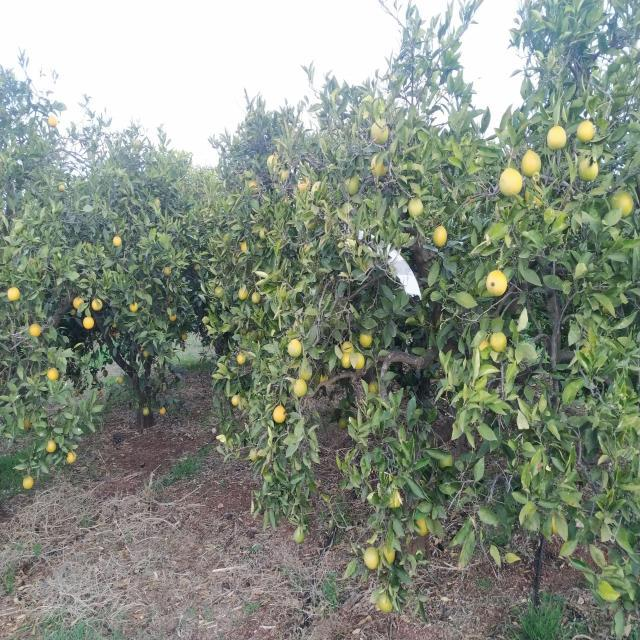Jeruk Belum Matang: (612, 190, 634, 218), (520, 150, 542, 176), (578, 156, 598, 182), (370, 122, 390, 144), (376, 590, 394, 614), (490, 332, 508, 352), (364, 546, 378, 570), (345, 174, 359, 197), (408, 198, 423, 218), (382, 546, 396, 565), (414, 518, 428, 537), (312, 181, 327, 198), (438, 456, 455, 470), (360, 330, 372, 348), (353, 352, 365, 370), (300, 366, 312, 380), (341, 352, 352, 367), (249, 448, 260, 462), (304, 220, 318, 230), (294, 530, 304, 544), (368, 380, 379, 392), (238, 288, 248, 301), (46, 440, 56, 452), (66, 451, 76, 463), (214, 286, 224, 298), (251, 291, 261, 303), (266, 156, 276, 168), (259, 228, 269, 240), (338, 417, 348, 429), (342, 342, 353, 352), (130, 301, 138, 313), (238, 398, 246, 410), (164, 267, 172, 276), (232, 395, 238, 406), (142, 408, 150, 416), (344, 401, 352, 409), (59, 185, 66, 192), (107, 358, 113, 366), (118, 377, 124, 385), (143, 350, 149, 358), (162, 384, 168, 392), (102, 370, 108, 377), (155, 198, 161, 204), (182, 332, 186, 340)
Jeruk Sudah Matang: (498, 168, 522, 196), (486, 270, 508, 298), (547, 126, 567, 150), (577, 120, 595, 142), (371, 156, 387, 177), (432, 226, 448, 246), (294, 379, 308, 398), (288, 340, 302, 358), (274, 406, 286, 422), (7, 286, 20, 300), (30, 323, 42, 337), (72, 297, 84, 309), (48, 368, 59, 381), (92, 298, 103, 310), (83, 317, 94, 329), (23, 476, 34, 488), (248, 181, 258, 193), (48, 116, 57, 128), (113, 236, 122, 246), (23, 418, 30, 430), (238, 354, 246, 364), (241, 241, 247, 252), (158, 407, 166, 415), (170, 315, 177, 322)
